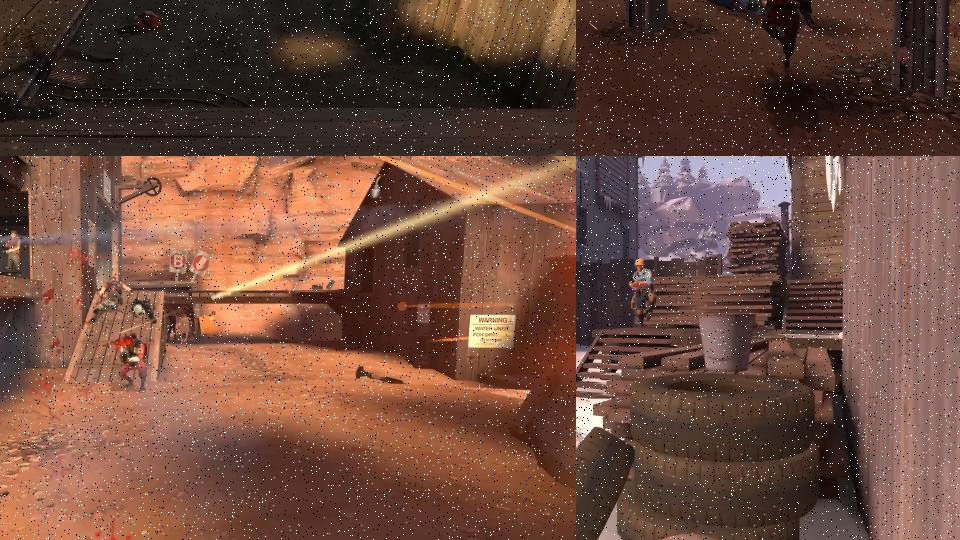Enemy: (755, 0, 818, 70), (117, 330, 157, 392), (628, 258, 657, 330), (691, 0, 767, 22), (96, 275, 136, 309), (114, 10, 163, 36), (3, 230, 23, 281), (174, 311, 193, 347)
